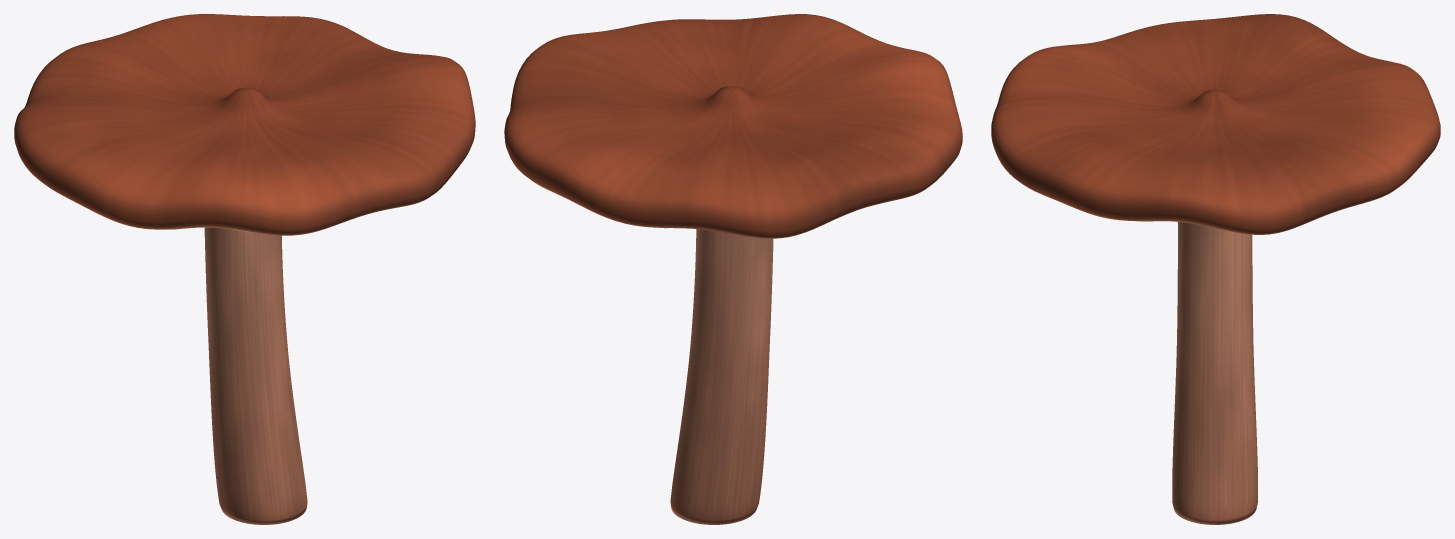
File: lactarius-rufus-drawn.glb
3 renders of one model, left to right at view 1: azimuth 30°, elevation 25°; view 2: azimuth 150°, elevation 25°; view 3: azimuth 270°, elevation 25°, orthographic. The views are drawn at different scales.
Bounding box in the file's own units: 0.7684 × 0.755 × 0.7536.
Materials: 1 (1 with a texture image).
